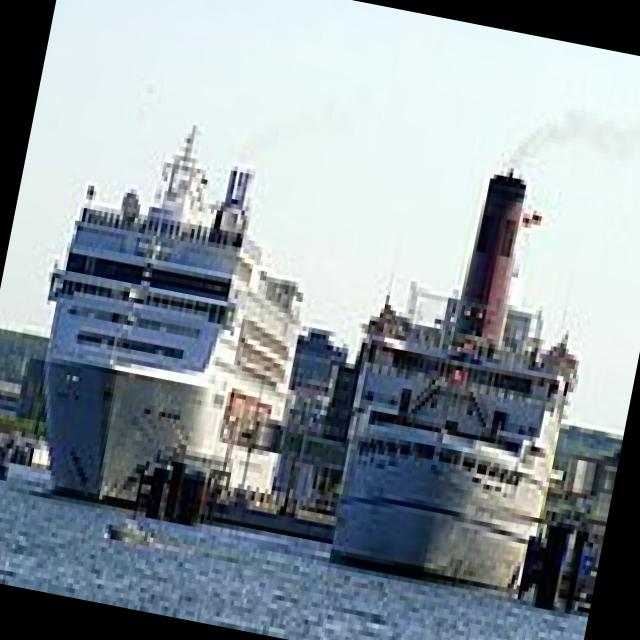boat: (18, 190, 304, 528), (319, 312, 571, 608)
